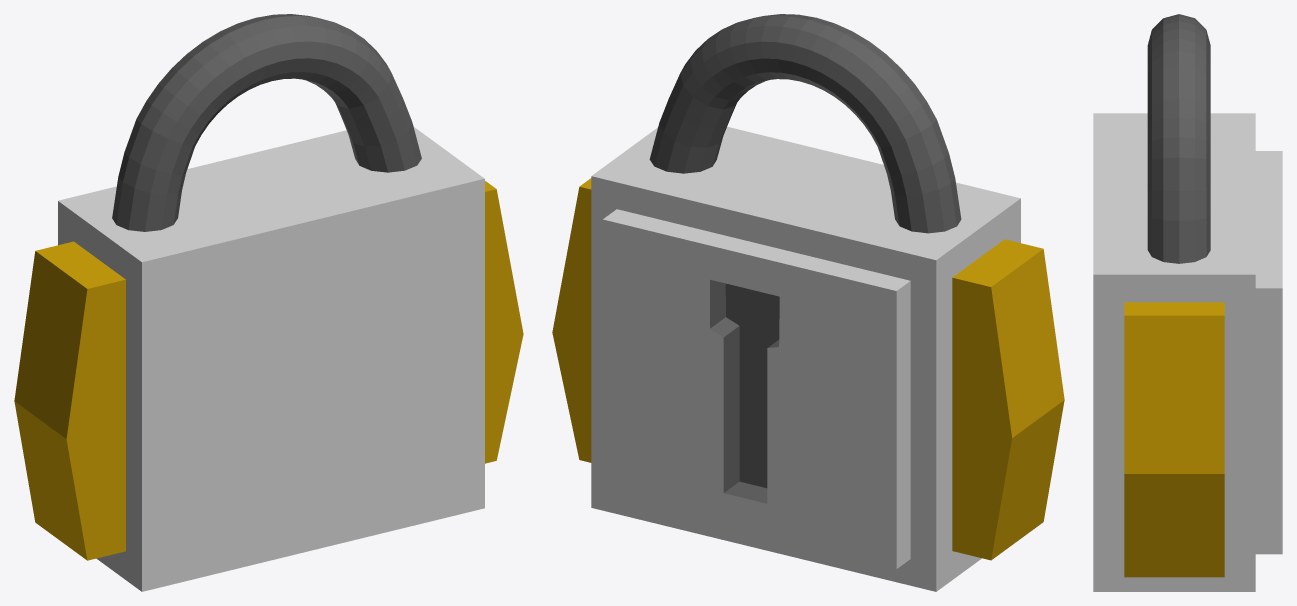
File: PADLOCK.fbx
3 renders of one model, left to right at view 1: azimuth 30°, elevation 25°; view 2: azimuth 150°, elevation 25°; view 3: azimuth 270°, elevation 25°, orthographic. The views are drawn at different scales.
Visible parts, largest first — view 1: Cube; view 2: Cube; view 3: Cube.
Part boxes in pixels (box(x1,y1,x2,y2)): Cube: box(14, 14, 523, 591); Cube: box(552, 14, 1064, 591); Cube: box(1093, 14, 1282, 591).
Bounding box in the file's own units: 403 × 421 × 150.
